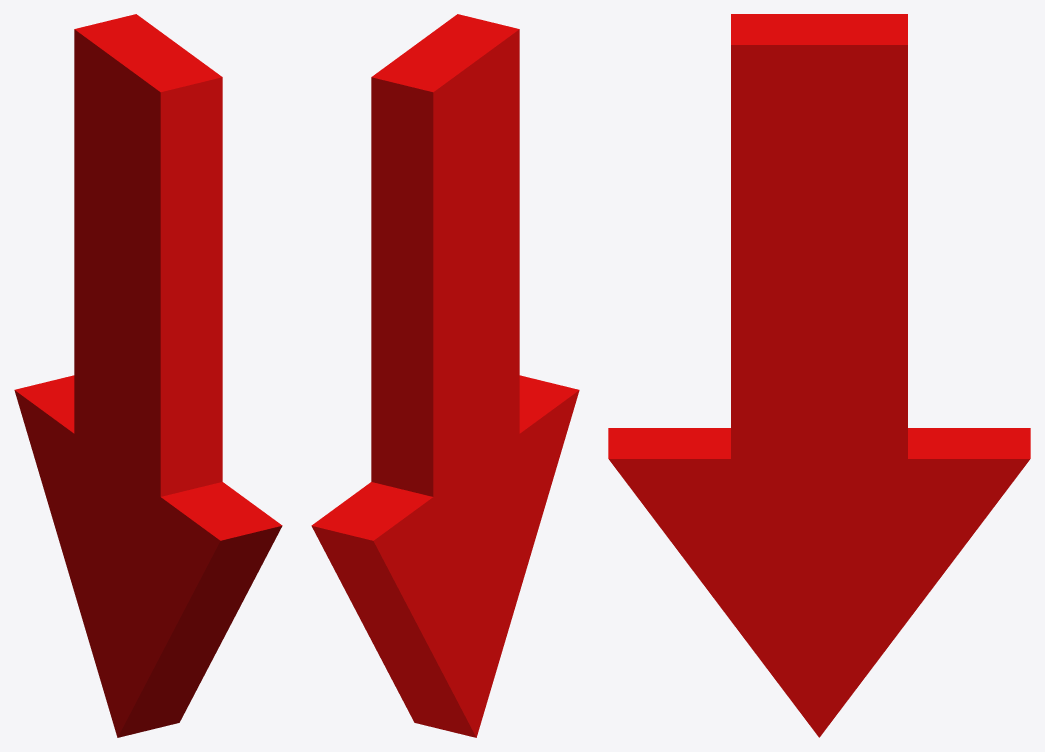
File: objectiveArrow.fbx
3 views of the same model, side by side, from view 1: azimuth 30°, elevation 25°; view 2: azimuth 150°, elevation 25°; view 3: azimuth 270°, elevation 25° (orthographic). The views are drawn at different scales.
Visible parts, largest first — view 1: Arrow; view 2: Arrow; view 3: Arrow.
Part boxes in pixels (x1,y1,x2,y2): Arrow: [14, 14, 282, 737]; Arrow: [311, 14, 579, 737]; Arrow: [608, 14, 1030, 737].
Bounding box in the file's own units: 373 × 3885 × 2144.
